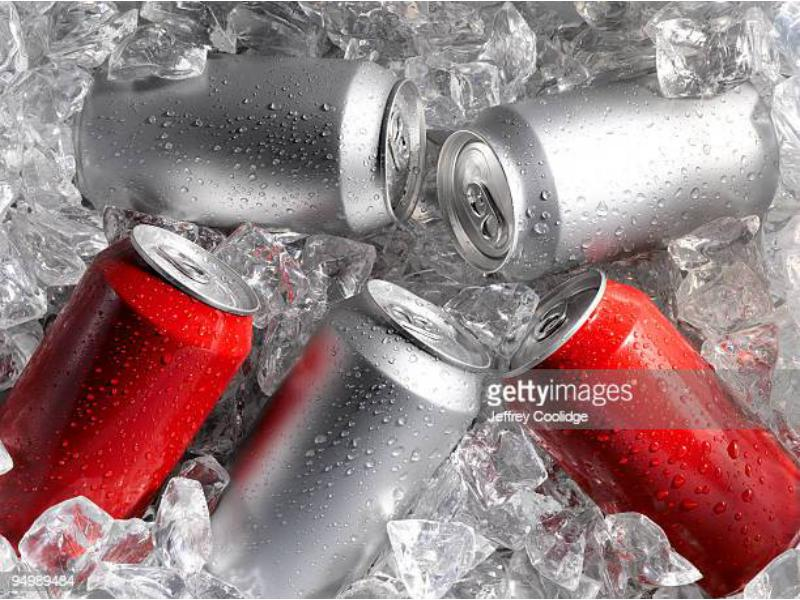can: (81, 58, 411, 237), (450, 92, 780, 266), (43, 222, 292, 372), (307, 258, 511, 437), (481, 275, 681, 402)
